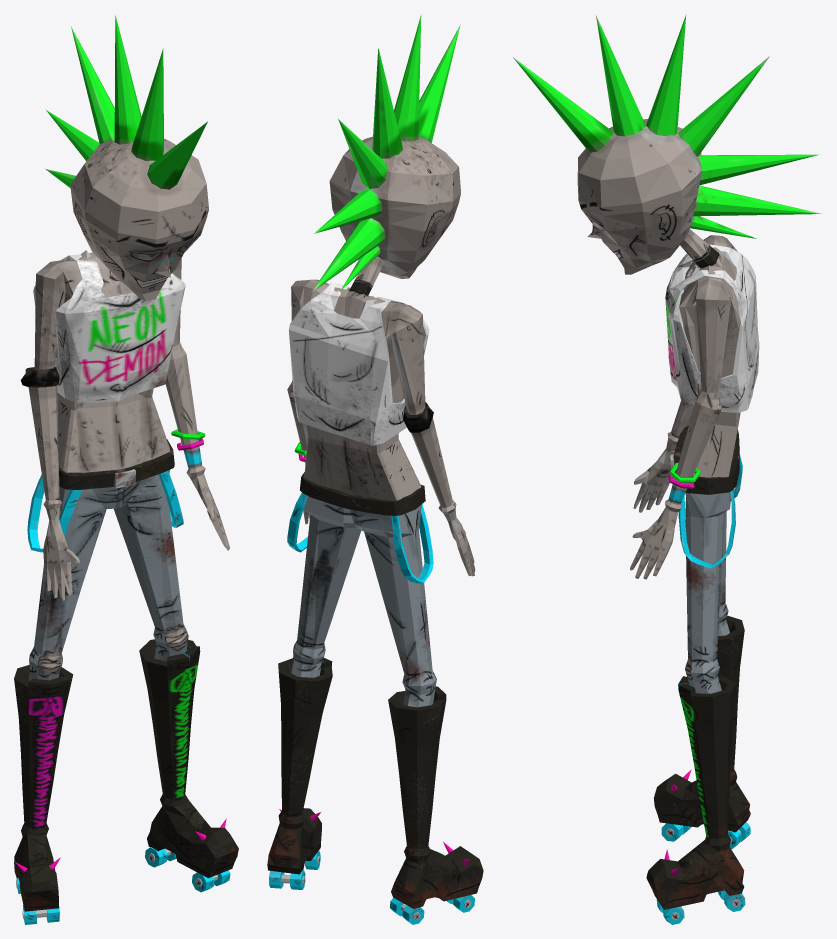
Rendered from punkAnimation_000035.obj.
The picture shows the model from 3 angles, left to right: view 1: azimuth 30°, elevation 25°; view 2: azimuth 150°, elevation 25°; view 3: azimuth 270°, elevation 25°; orthographic projection. The views are drawn at different scales.
Visible parts, largest first — view 1: Cube.004_Cube.003; view 2: Cube.004_Cube.003; view 3: Cube.004_Cube.003.
Part boxes in pixels (x1,y1,x2,y2): Cube.004_Cube.003: (14,15,238,924); Cube.004_Cube.003: (267,14,483,924); Cube.004_Cube.003: (513,14,821,924).
Bounding box in the file's own units: 1.85 × 7.51 × 2.45.
